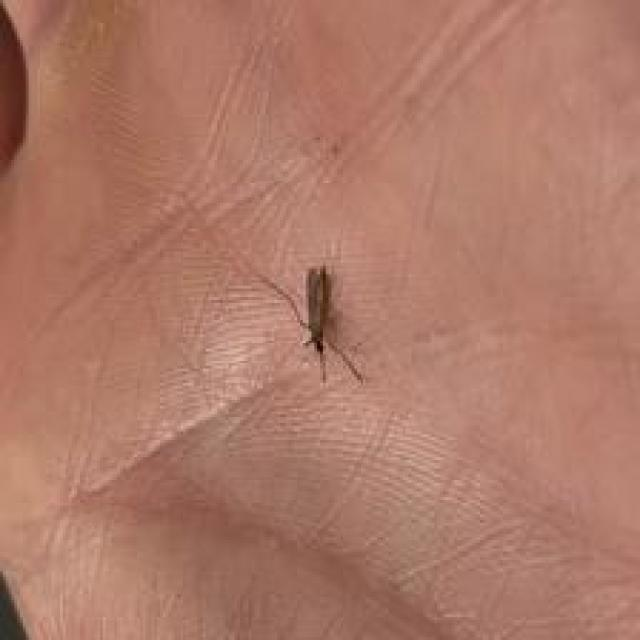Culex: (262, 263, 364, 386)
